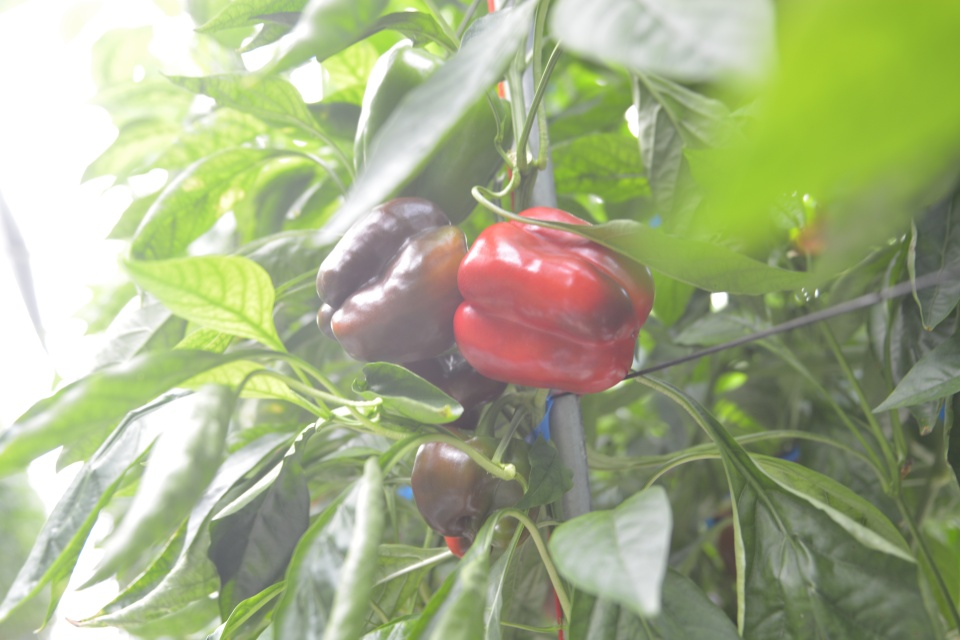fruit: (452, 203, 656, 396), (352, 44, 515, 228), (314, 195, 468, 367), (408, 433, 543, 550), (400, 341, 508, 432)
